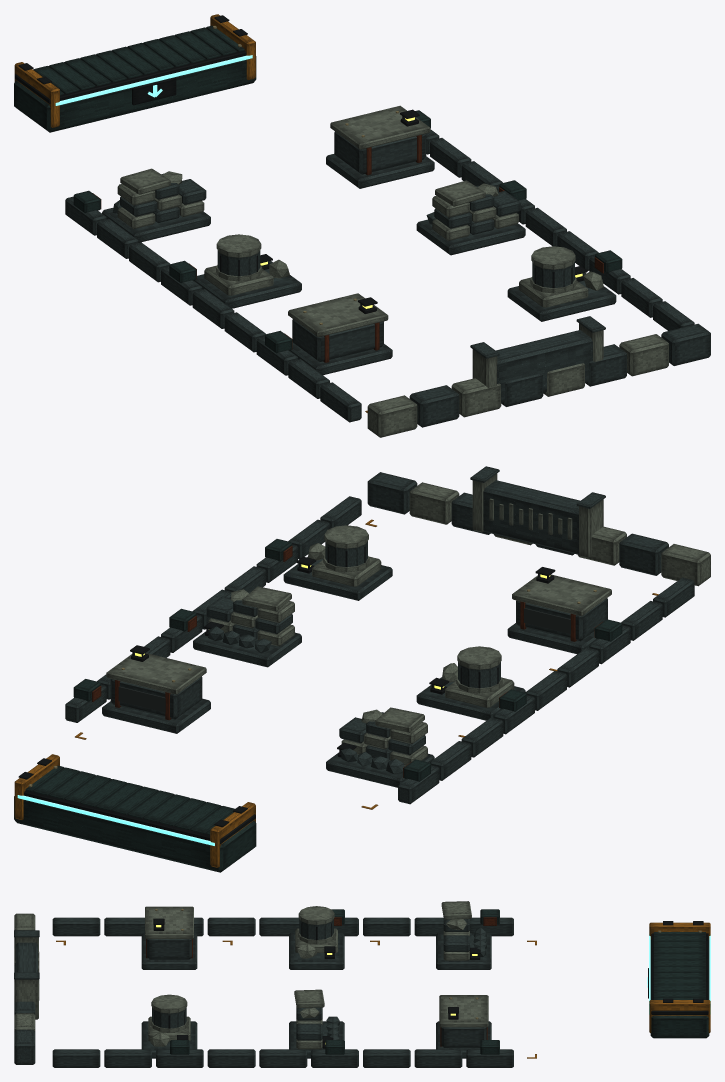
Rendered from ExcavationDepot_5x11.fbx.
3 views of the same model, one above another, from view 1: azimuth 30°, elevation 25°; view 2: azimuth 150°, elevation 25°; view 3: azimuth 270°, elevation 25° (orthographic). The views are drawn at different scales.
Parts seen in each view (by area): view 1: THStage_Perimeter_Remnants.010, THStage_ExtractionLift.010, THStage_Bay_02_Reliquary.010, THStage_Bay_05_Reliquary.010, THStage_Bay_04_BrokenWall.010, THStage_Bay_01_BrokenWall.010, THStage_SealedArchiveRelief.009, THStage_Bay_06_ColumnStump.010, THStage_Bay_03_ColumnStump.010; view 2: THStage_Perimeter_Remnants.010, THStage_ExtractionLift.010, THStage_SealedArchiveRelief.009, THStage_Bay_02_Reliquary.010, THStage_Bay_04_BrokenWall.010, THStage_Bay_05_Reliquary.010, THStage_Bay_01_BrokenWall.010, THStage_Bay_06_ColumnStump.010, THStage_Bay_03_ColumnStump.010; view 3: THStage_Perimeter_Remnants.010, THStage_ExtractionLift.010, THStage_Bay_05_Reliquary.010, THStage_Bay_01_BrokenWall.010, THStage_Bay_03_ColumnStump.010, THStage_Bay_02_Reliquary.010, THStage_Bay_06_ColumnStump.010, THStage_Bay_04_BrokenWall.010, THStage_SealedArchiveRelief.009.
Part boxes in pixels (x1,y1,x2,y2): THStage_Perimeter_Remnants.010: (65, 110, 710, 437); THStage_ExtractionLift.010: (14, 14, 256, 132); THStage_Bay_02_Reliquary.010: (326, 105, 434, 188); THStage_Bay_05_Reliquary.010: (288, 293, 392, 375); THStage_Bay_04_BrokenWall.010: (416, 180, 525, 255); THStage_Bay_01_BrokenWall.010: (102, 168, 210, 242); THStage_SealedArchiveRelief.009: (470, 316, 605, 403); THStage_Bay_06_ColumnStump.010: (507, 246, 616, 321); THStage_Bay_03_ColumnStump.010: (194, 234, 301, 308); THStage_Perimeter_Remnants.010: (65, 472, 710, 804); THStage_ExtractionLift.010: (14, 754, 256, 872); THStage_SealedArchiveRelief.009: (470, 466, 605, 558); THStage_Bay_02_Reliquary.010: (102, 645, 210, 733); THStage_Bay_04_BrokenWall.010: (193, 586, 301, 667); THStage_Bay_05_Reliquary.010: (507, 567, 611, 653); THStage_Bay_01_BrokenWall.010: (326, 707, 434, 787); THStage_Bay_06_ColumnStump.010: (283, 525, 392, 600); THStage_Bay_03_ColumnStump.010: (416, 646, 525, 720); THStage_Perimeter_Remnants.010: (14, 909, 513, 1067); THStage_ExtractionLift.010: (647, 921, 710, 1038); THStage_Bay_05_Reliquary.010: (141, 906, 197, 969); THStage_Bay_01_BrokenWall.010: (436, 901, 491, 969); THStage_Bay_03_ColumnStump.010: (289, 906, 344, 969); THStage_Bay_02_Reliquary.010: (436, 995, 491, 1058); THStage_Bay_06_ColumnStump.010: (141, 994, 197, 1058); THStage_Bay_04_BrokenWall.010: (289, 989, 344, 1058); THStage_SealedArchiveRelief.009: (14, 930, 39, 1019).
Size of the model in its own units: 4.96 by 0.7775 by 10.65.
4 materials, 1 textured.
